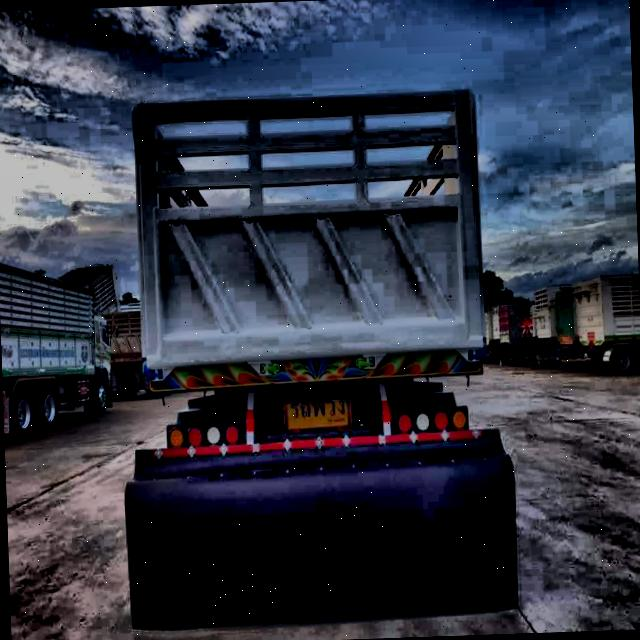trailer: (96, 80, 528, 640)
